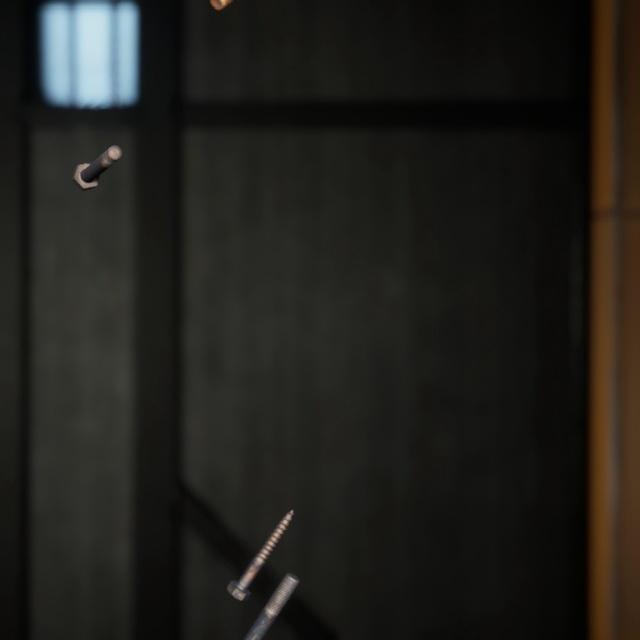bolt: (216, 543, 304, 640), (222, 481, 298, 582), (67, 127, 126, 181)
